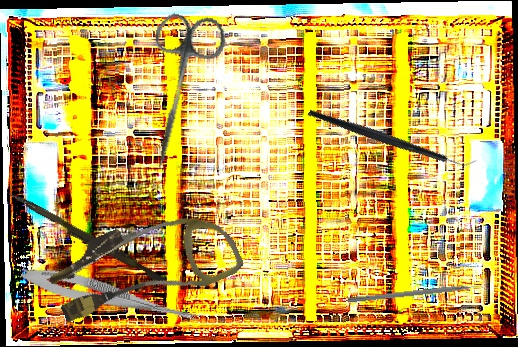Cannula: (40, 187, 247, 344)
Chopper: (306, 57, 479, 217), (347, 282, 490, 311)
Iris Scissors: (127, 7, 230, 178)
Micro Scissor: (18, 261, 206, 329)
Pusher: (4, 190, 169, 286)
